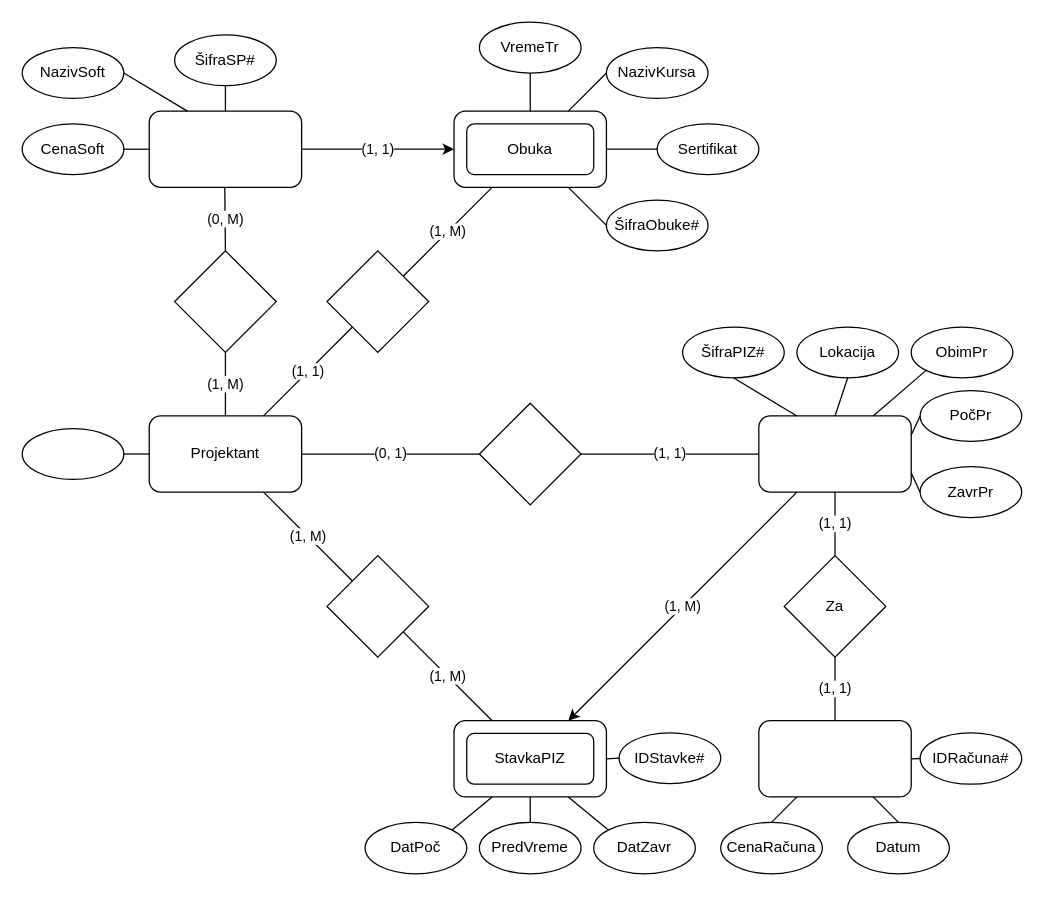
The diagram is 1044 pixels wide and 897 high, and some of its shapes have lost their labels. Each missing label, with the box of its shape:
Ide: (326, 250, 429, 352)
Koristi: (173, 250, 276, 352)
PIZ: (758, 415, 911, 492)
Radi: (326, 554, 429, 657)
Račun: (758, 719, 911, 797)
SoftPaket: (148, 110, 302, 187)
Status: (21, 427, 124, 479)
Vodi: (478, 402, 581, 505)
